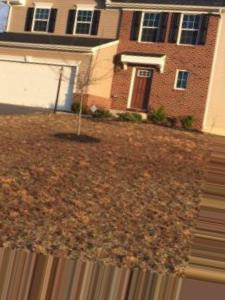patch: (42, 163, 106, 211), (124, 203, 177, 253), (119, 132, 172, 181), (12, 122, 61, 156), (46, 220, 104, 247), (3, 177, 31, 220), (87, 133, 106, 154)
